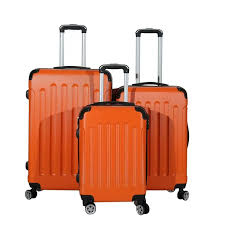suitcase: (22, 24, 113, 203), (110, 27, 192, 203), (75, 64, 151, 215)
